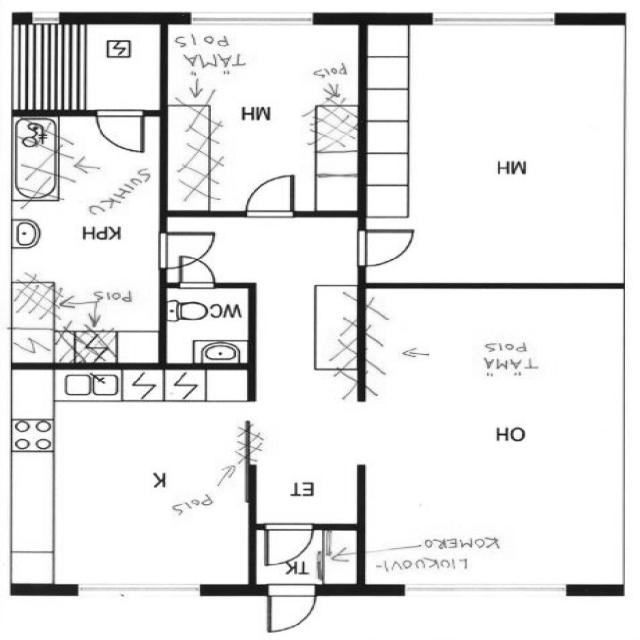door: (347, 222, 421, 271), (258, 582, 322, 638), (239, 169, 304, 220), (256, 522, 316, 568), (90, 108, 146, 156), (165, 232, 221, 268), (175, 256, 218, 291)
window: (422, 5, 564, 38), (180, 3, 320, 34), (395, 579, 573, 601), (71, 576, 207, 604), (149, 226, 177, 276), (25, 8, 65, 28)
zone: (363, 284, 624, 590), (358, 14, 624, 282), (10, 368, 253, 586), (162, 16, 366, 212), (7, 195, 160, 322), (11, 112, 154, 203), (78, 18, 164, 114), (9, 16, 84, 116), (160, 285, 252, 366)
